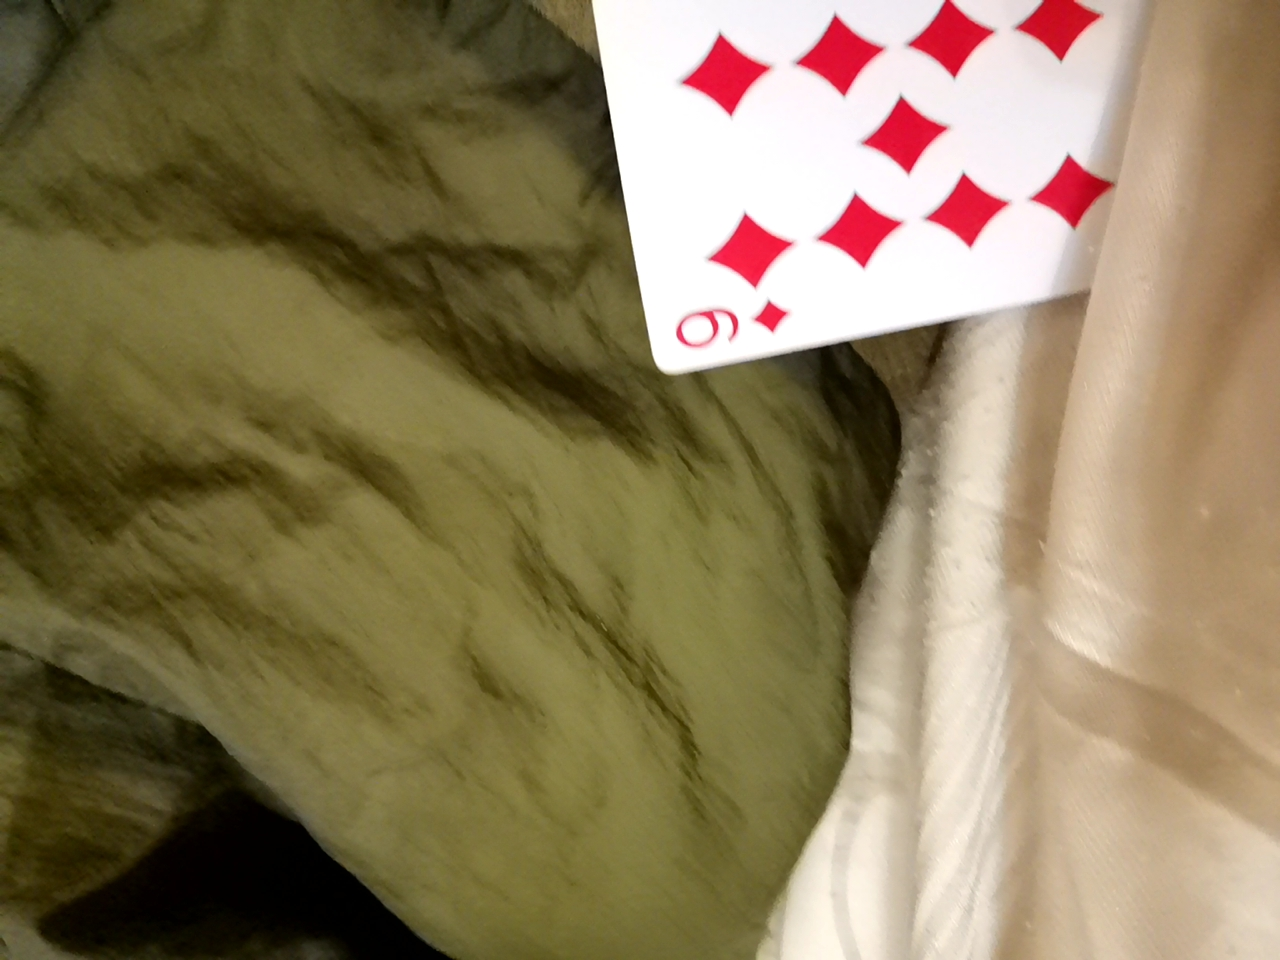fk 9: (572, 0, 1152, 369)
